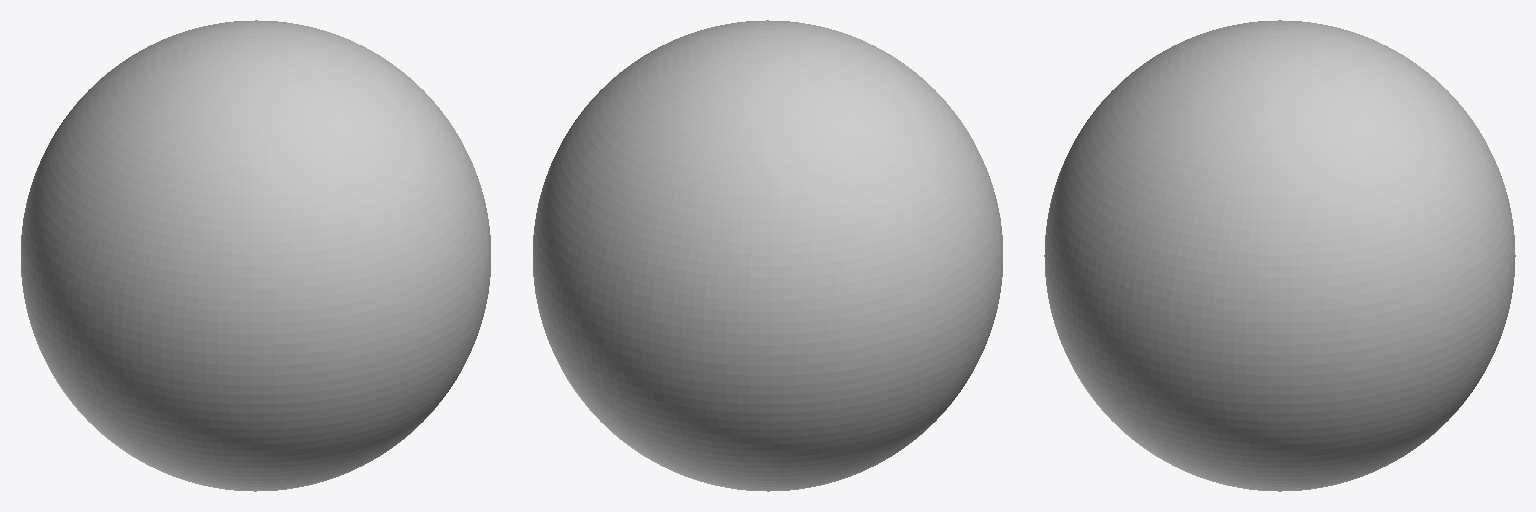
The model's file is Marte.obj.
3 renders of one model, left to right at view 1: azimuth 30°, elevation 25°; view 2: azimuth 150°, elevation 25°; view 3: azimuth 270°, elevation 25°, orthographic.
Parts seen in each view (by area): view 1: Esfera; view 2: Esfera; view 3: Esfera.
Boxes of the visible parts, <box> form: Esfera: <box>21,20,490,491</box>; Esfera: <box>533,20,1002,491</box>; Esfera: <box>1044,20,1515,491</box>.
Bounding box in the file's own units: 2 × 2 × 2.